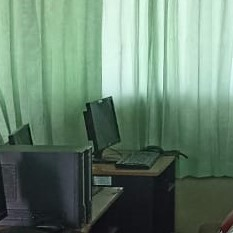monitor: (83, 96, 121, 155)
